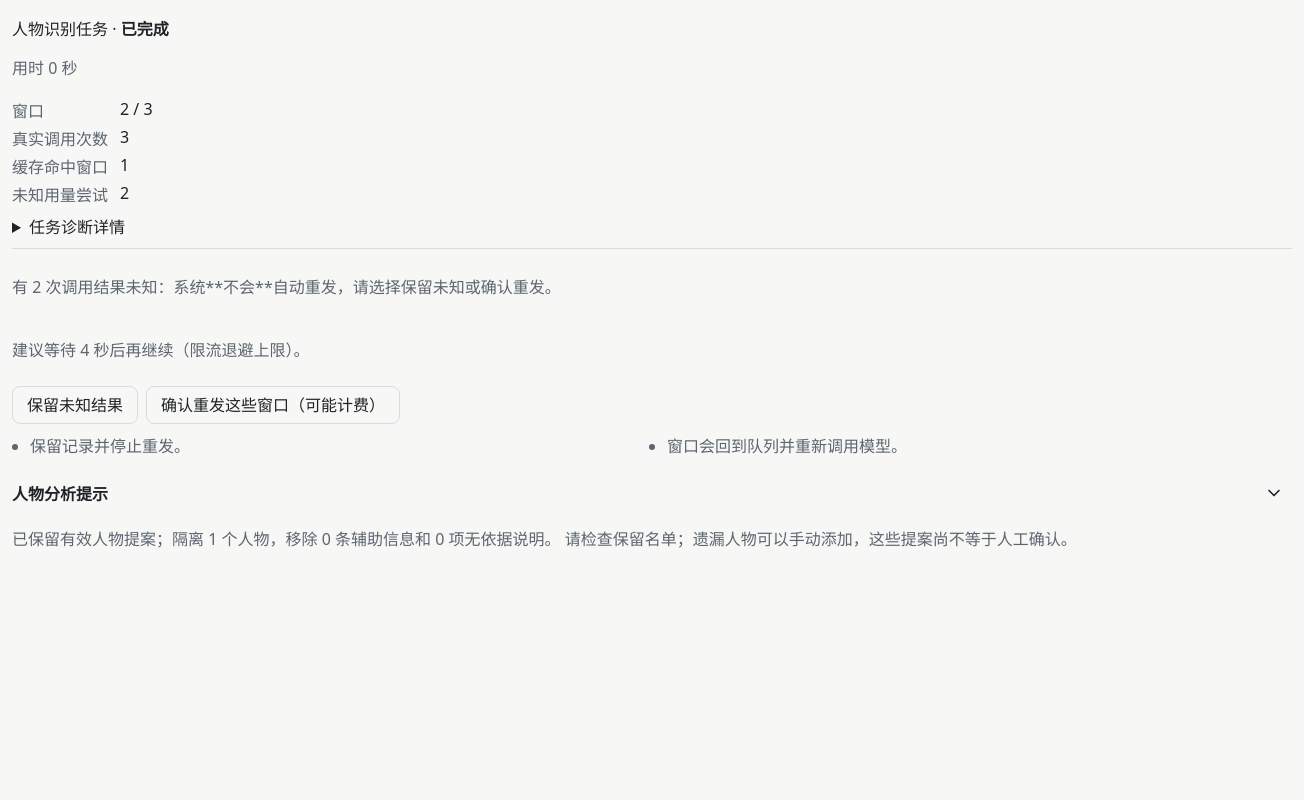
Test: JobPanel › 显示修复失败原因且不把字符串标记误认为成功
Expected: the text "已保留有效人物提案；隔离 1 个人物，移除 0 条辅助信息和 0 项无依据说明。 请检查保留名单；遗漏人物可以手动添加，这些提案尚不等于人工确认。" is shown, [12, 528, 1077, 550]
Click the button named "展开人物分析提示". click: x=1274, y=493
box: [1256, 475, 1292, 511]
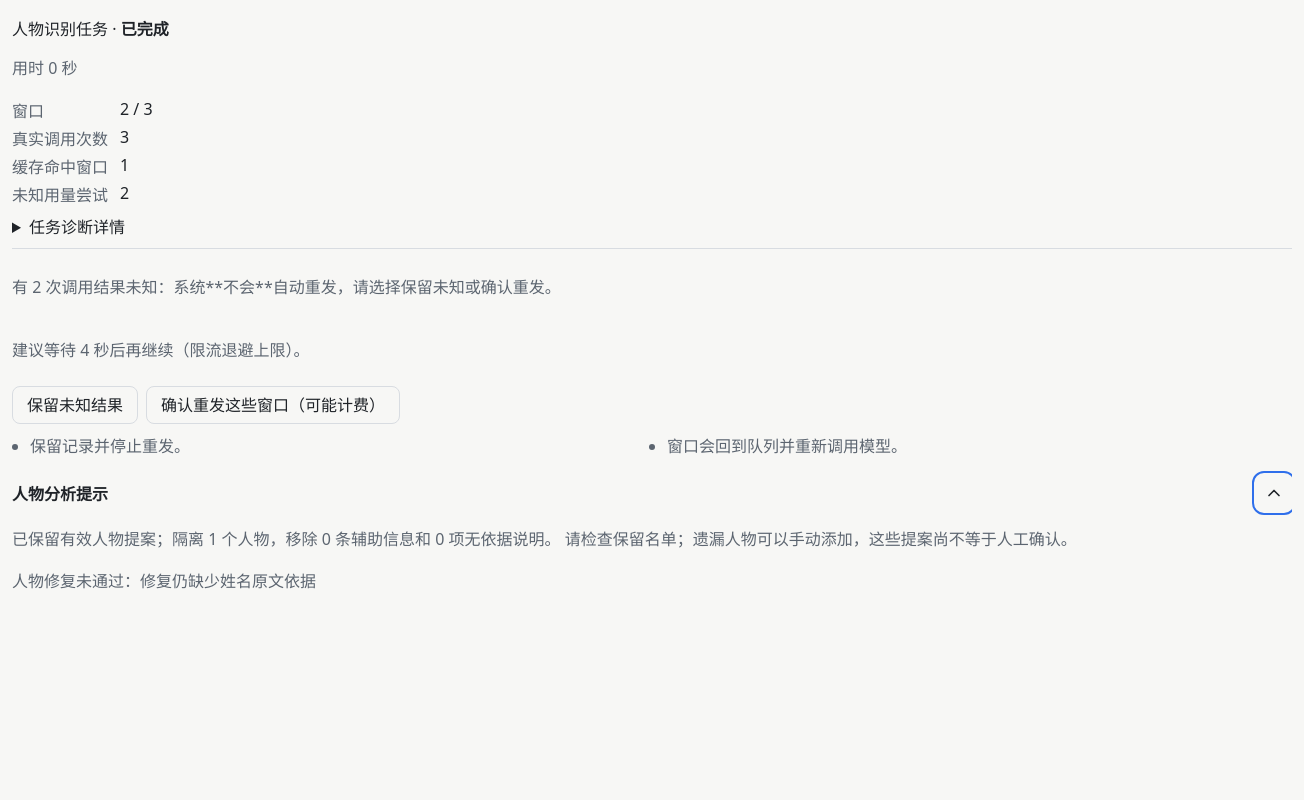
Expected: the text "人物修复未通过：修复仍缺少姓名原文依据" is shown, [12, 570, 316, 592]
